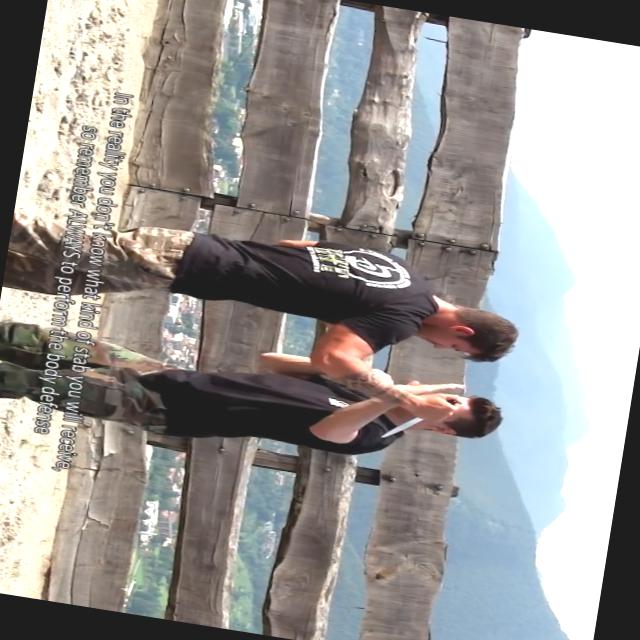knife: (376, 383, 464, 453)
